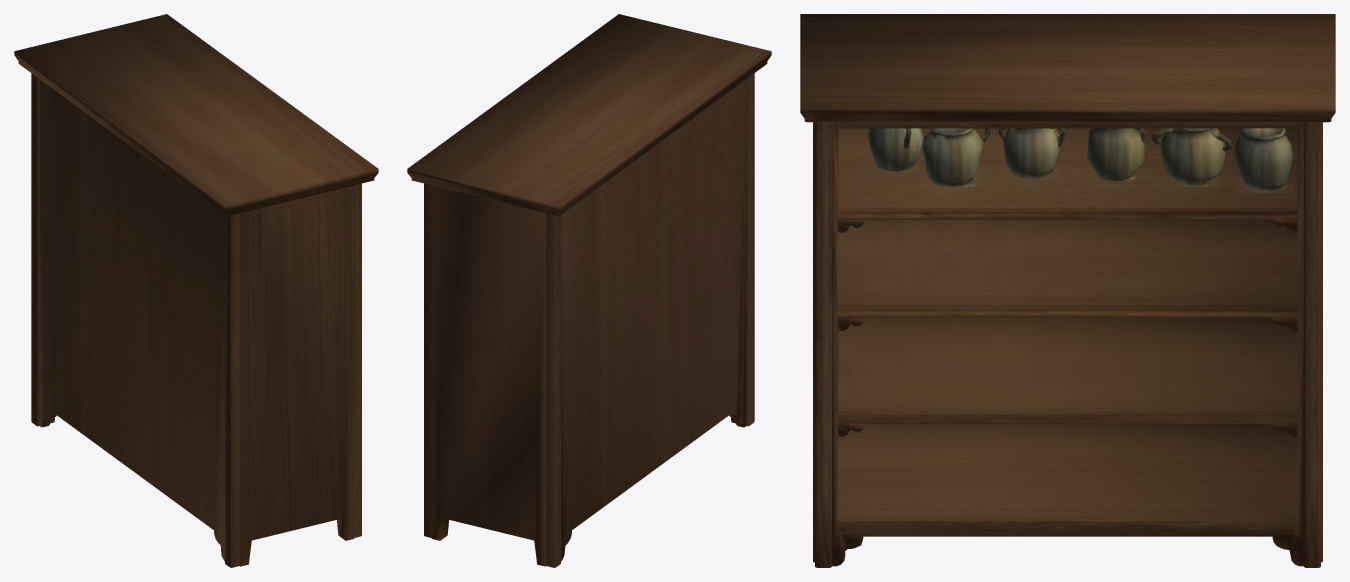
The model's file is Prop_Shelf_Kitchen.glb.
3 views of the same model, side by side, from view 1: azimuth 30°, elevation 25°; view 2: azimuth 150°, elevation 25°; view 3: azimuth 270°, elevation 25° (orthographic). The views are drawn at different scales.
Parts seen in each view (by area): view 1: tripo_node_c26d38c0-6422-4c21-a88d-bc17828d48e7; view 2: tripo_node_c26d38c0-6422-4c21-a88d-bc17828d48e7; view 3: tripo_node_c26d38c0-6422-4c21-a88d-bc17828d48e7.
Part boxes in pixels (box(x1,y1,x2,y2)): tripo_node_c26d38c0-6422-4c21-a88d-bc17828d48e7: box(14, 14, 378, 567); tripo_node_c26d38c0-6422-4c21-a88d-bc17828d48e7: box(407, 14, 771, 567); tripo_node_c26d38c0-6422-4c21-a88d-bc17828d48e7: box(800, 14, 1335, 567).
Size of the model in its own units: 0.5206 by 1.2 by 1.25.
1 material, 1 textured.
